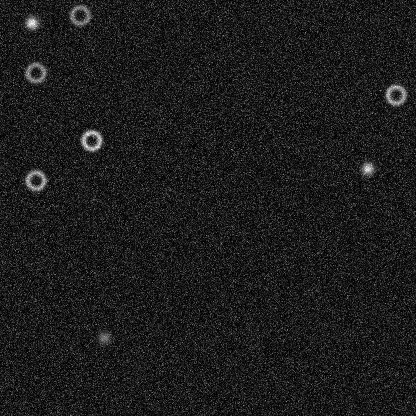Ring: (79, 128, 103, 152), (383, 82, 407, 106), (23, 60, 47, 84), (23, 168, 47, 192), (67, 3, 91, 27)
Spot: (96, 329, 112, 345), (23, 14, 39, 30), (359, 160, 375, 176)
